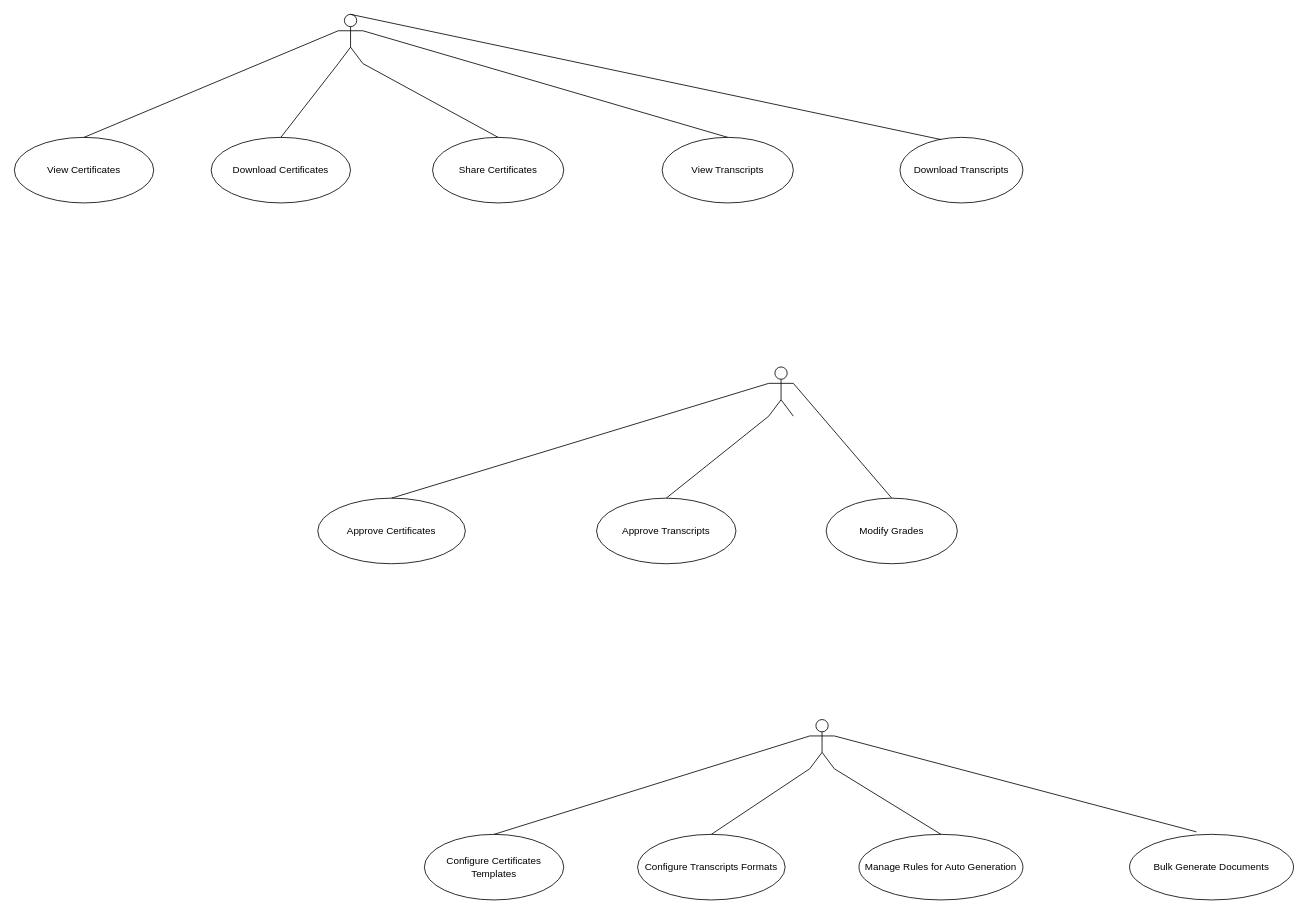
Image size: 1308x914. Some labels were removed from this diagram. The centre of each missing label's shape, as x and y in pixels:
"Admin" goes at point (821, 744).
"Student" goes at point (350, 39).
"Teacher" goes at point (780, 391).
